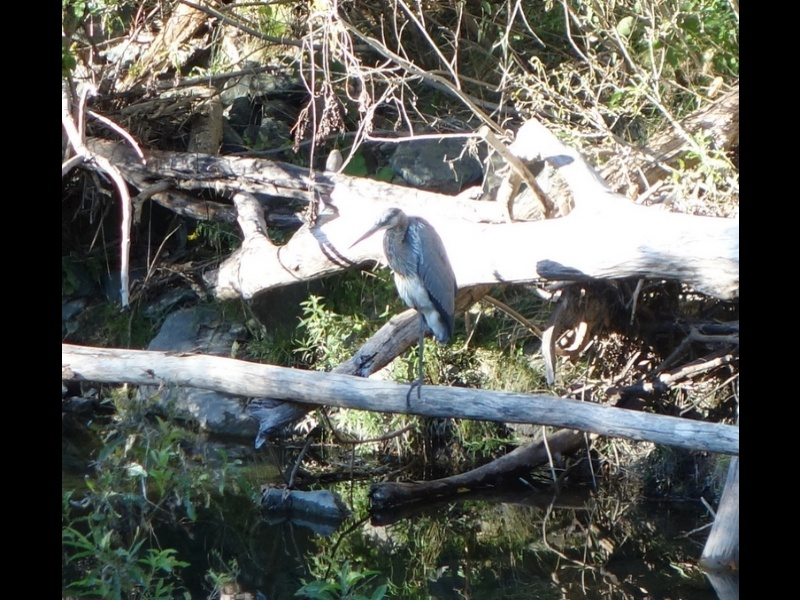heron: (354, 206, 455, 388)
